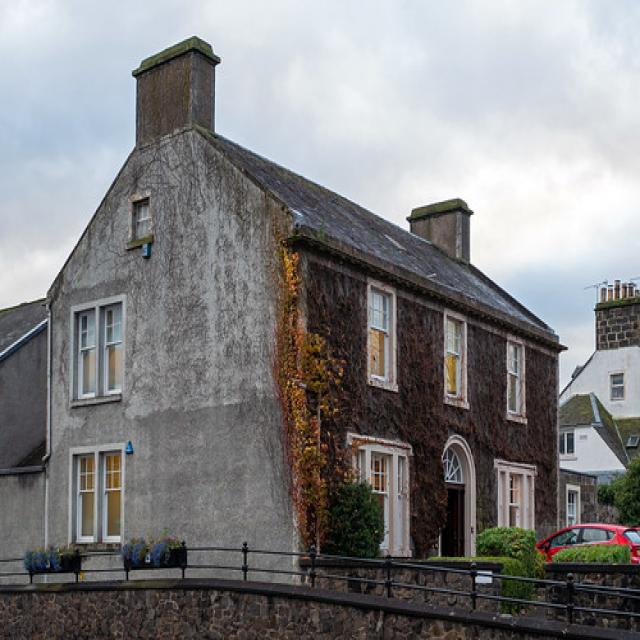Normal_building: (42, 33, 574, 579)
